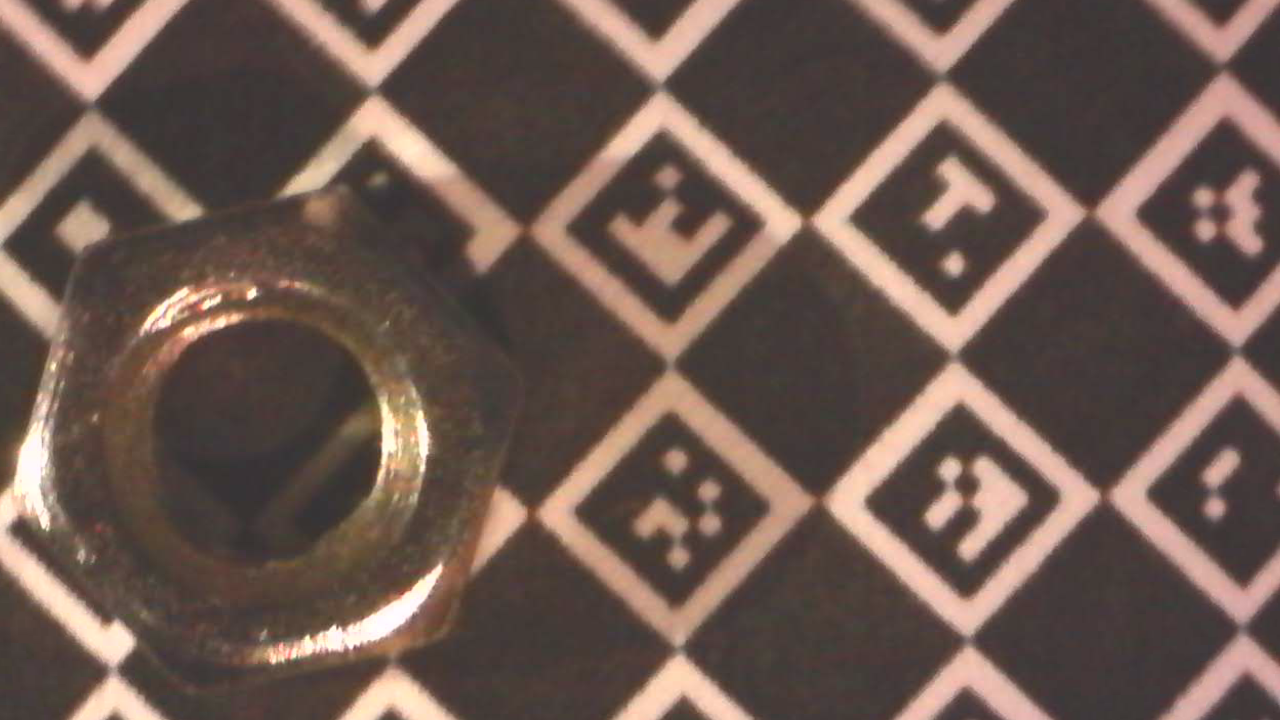Bolt: (10, 182, 525, 696)
